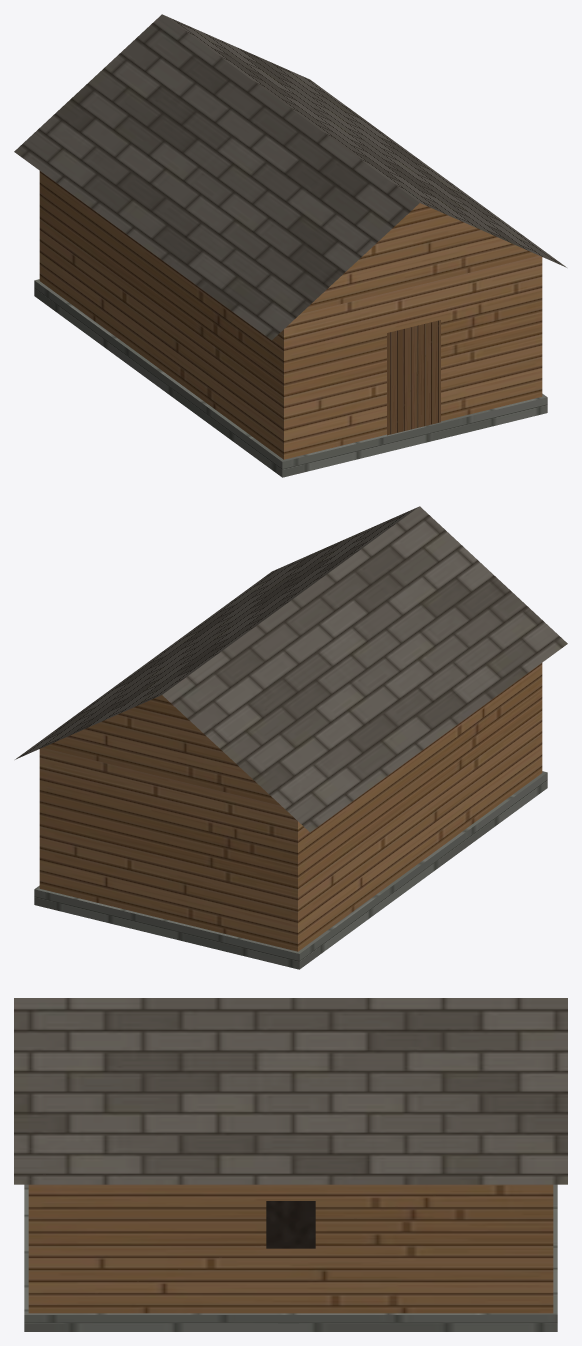
Rendered from ae_sand_wood_large_hall_lod2.glb.
3 views of the same model, one above another, from view 1: azimuth 30°, elevation 25°; view 2: azimuth 150°, elevation 25°; view 3: azimuth 270°, elevation 25° (orthographic). The views are drawn at different scales.
Parts seen in each view (by area): view 1: ae_sand_wood_large_hall_lod2; view 2: ae_sand_wood_large_hall_lod2; view 3: ae_sand_wood_large_hall_lod2.
Part boxes in pixels (left/top/right/bottom): ae_sand_wood_large_hall_lod2: left=14, top=14, right=566, bottom=477; ae_sand_wood_large_hall_lod2: left=15, top=506, right=567, bottom=969; ae_sand_wood_large_hall_lod2: left=14, top=998, right=567, bottom=1331.
Size of the model in its own units: 6.3 by 5 by 9.5.
1 material, 1 textured.
